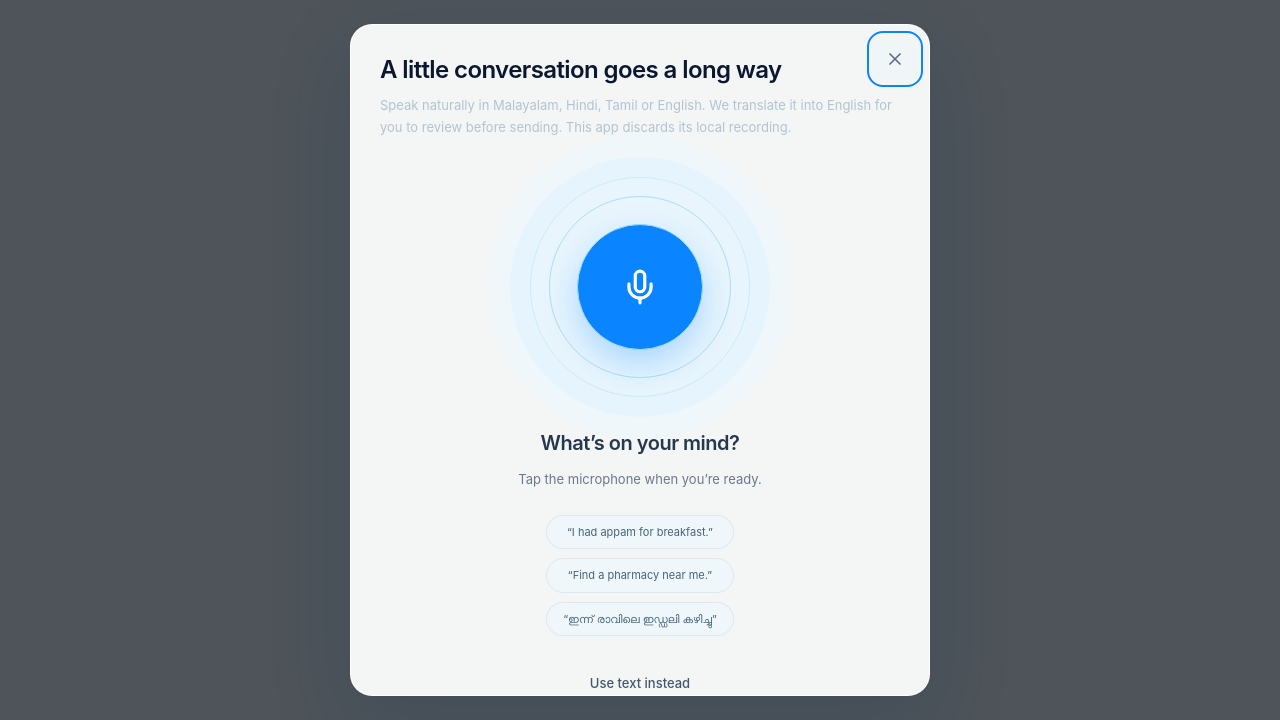
Test case: permission and honest fallback interactions › voice consent denial happens before microphone access
Click the button named "Start recording" at (640, 287), box [577, 224, 703, 350]
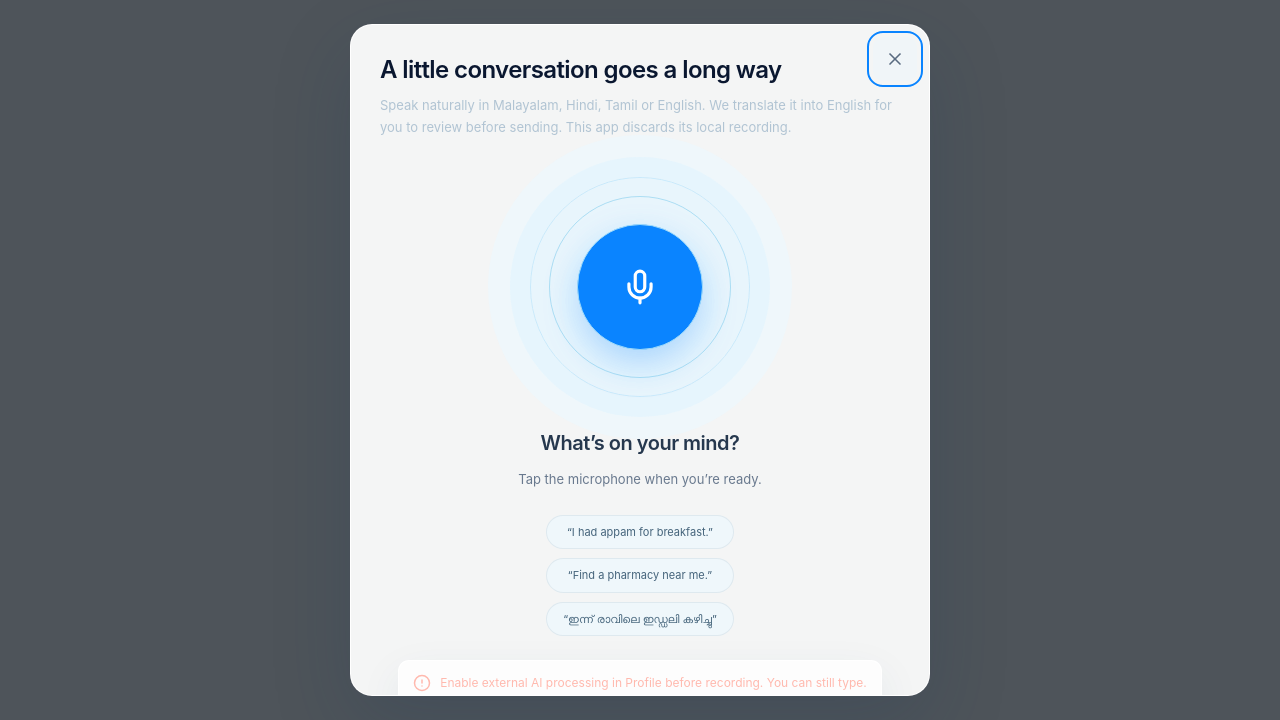
Now the message shows "Enable external AI", box [440, 675, 867, 690]
